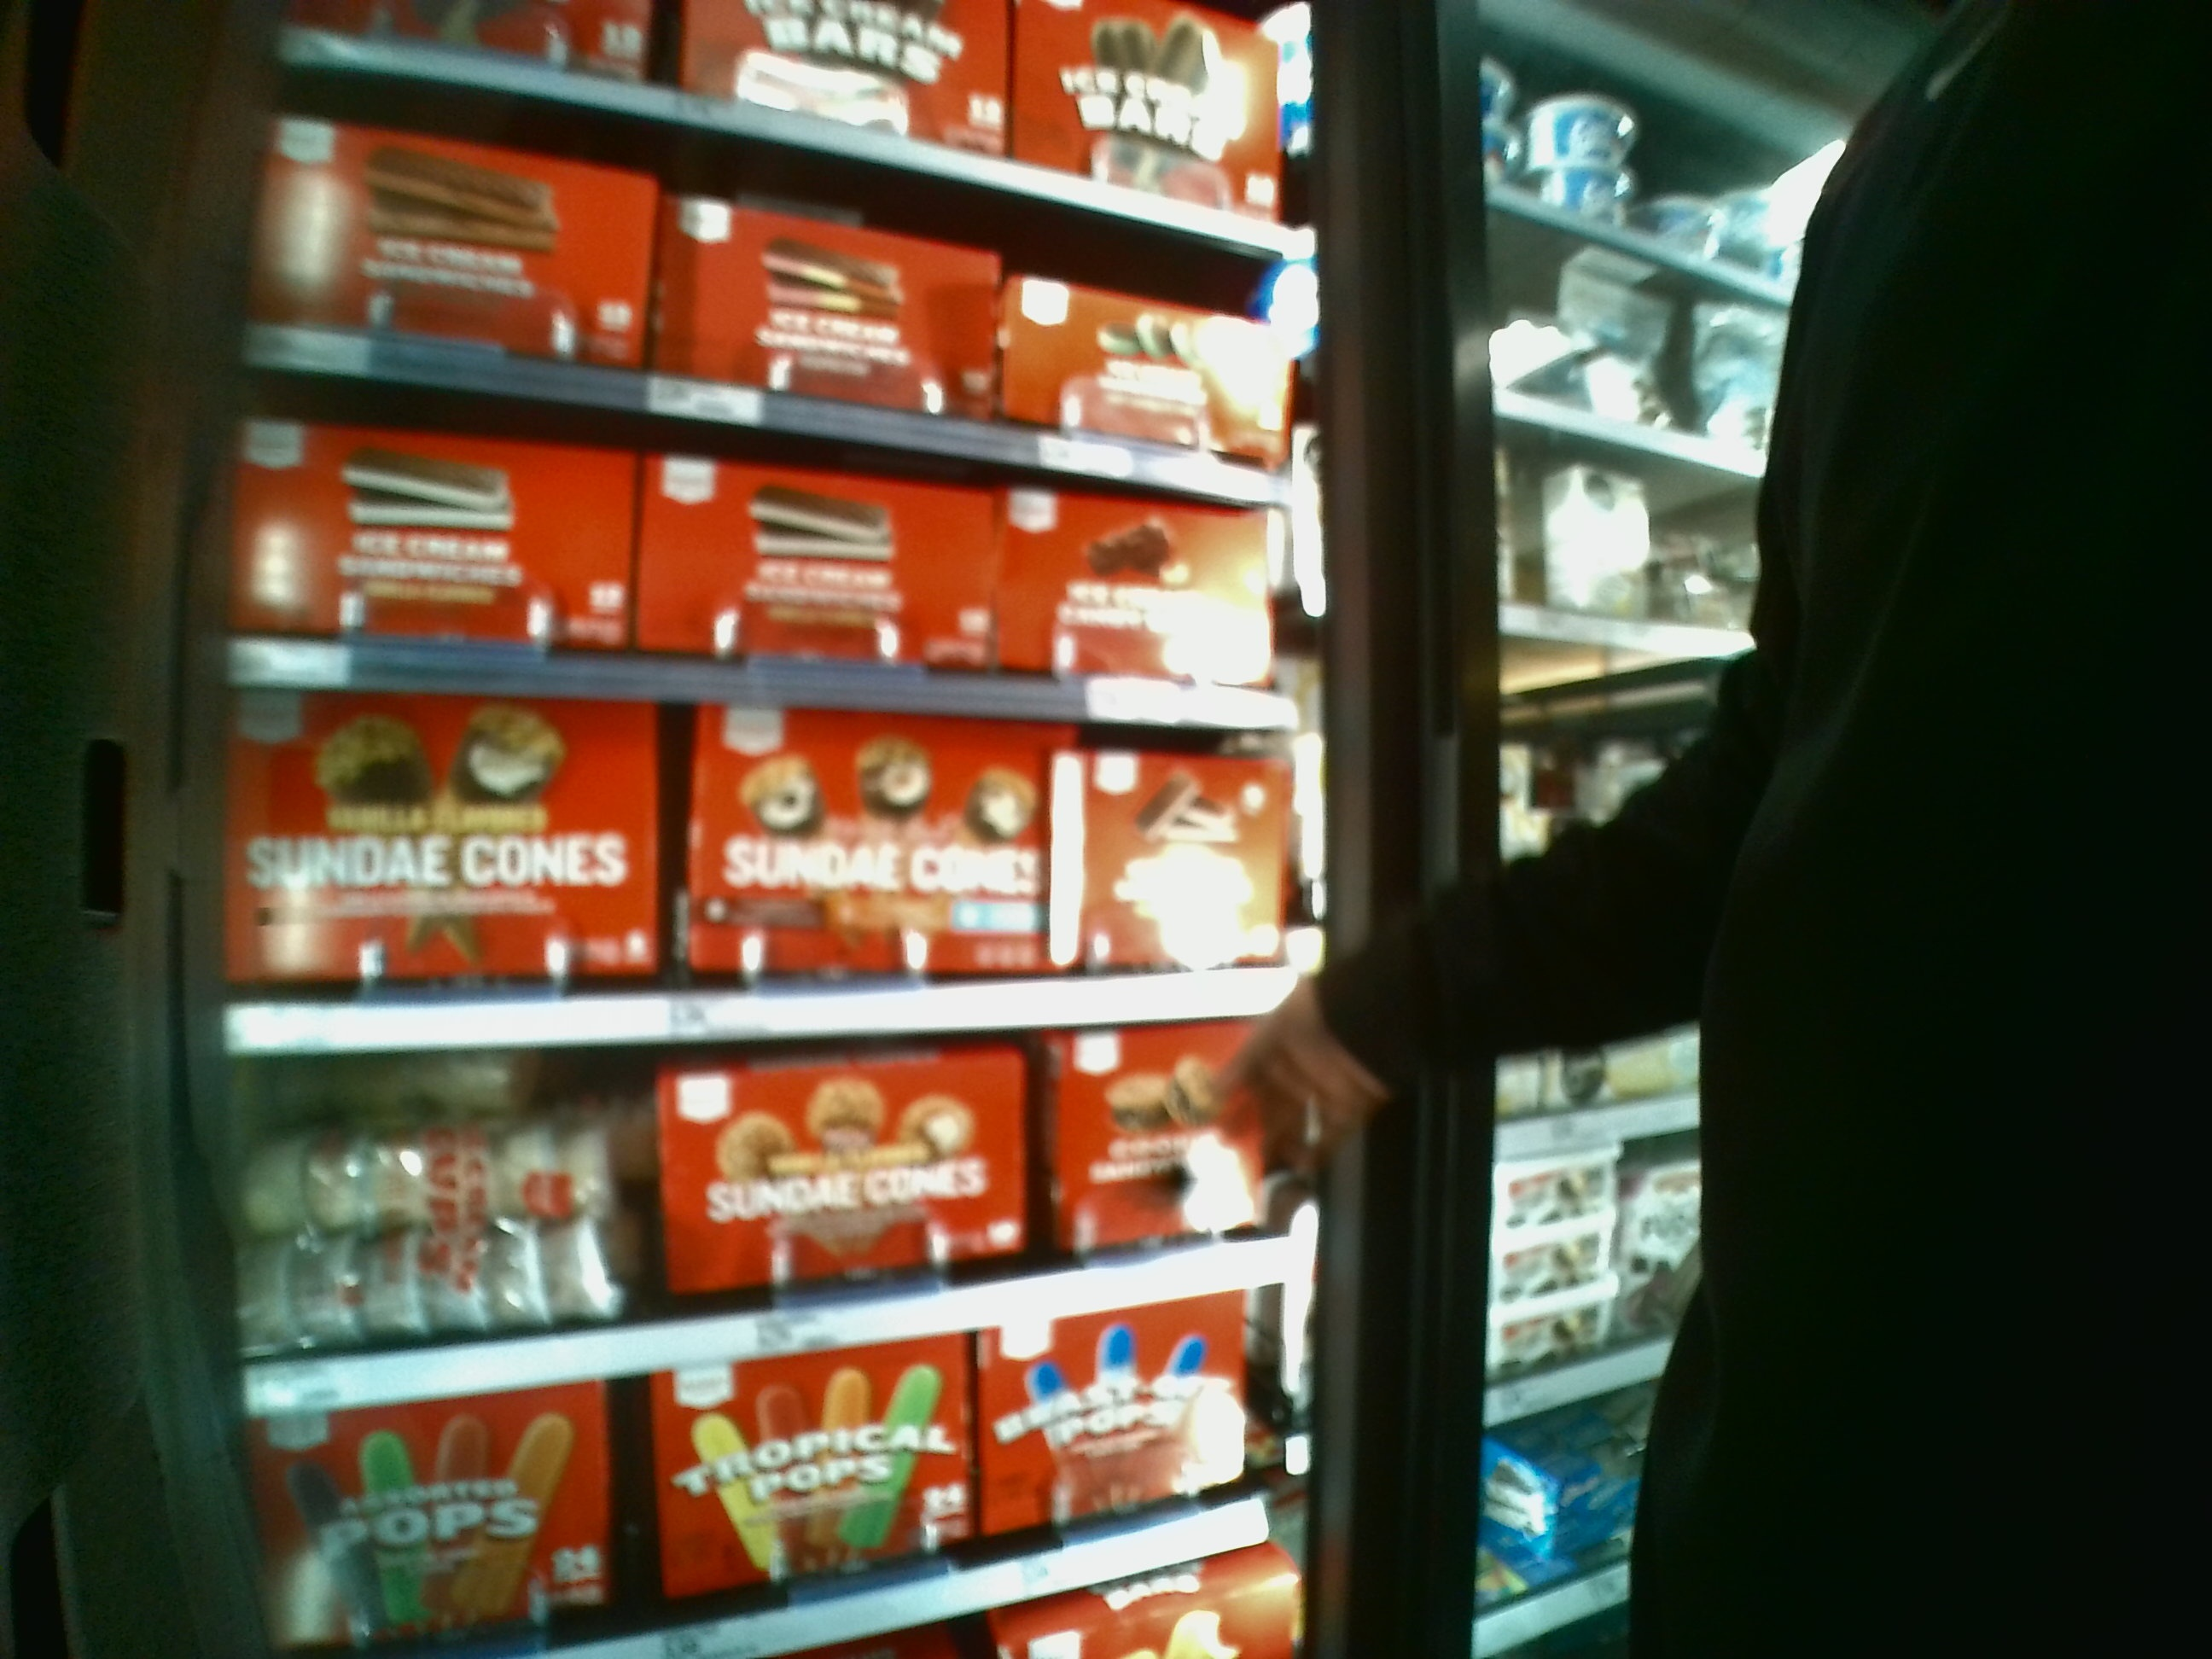shelf: (223, 1026, 1317, 1344), (225, 699, 1301, 1007), (225, 439, 1317, 725)
